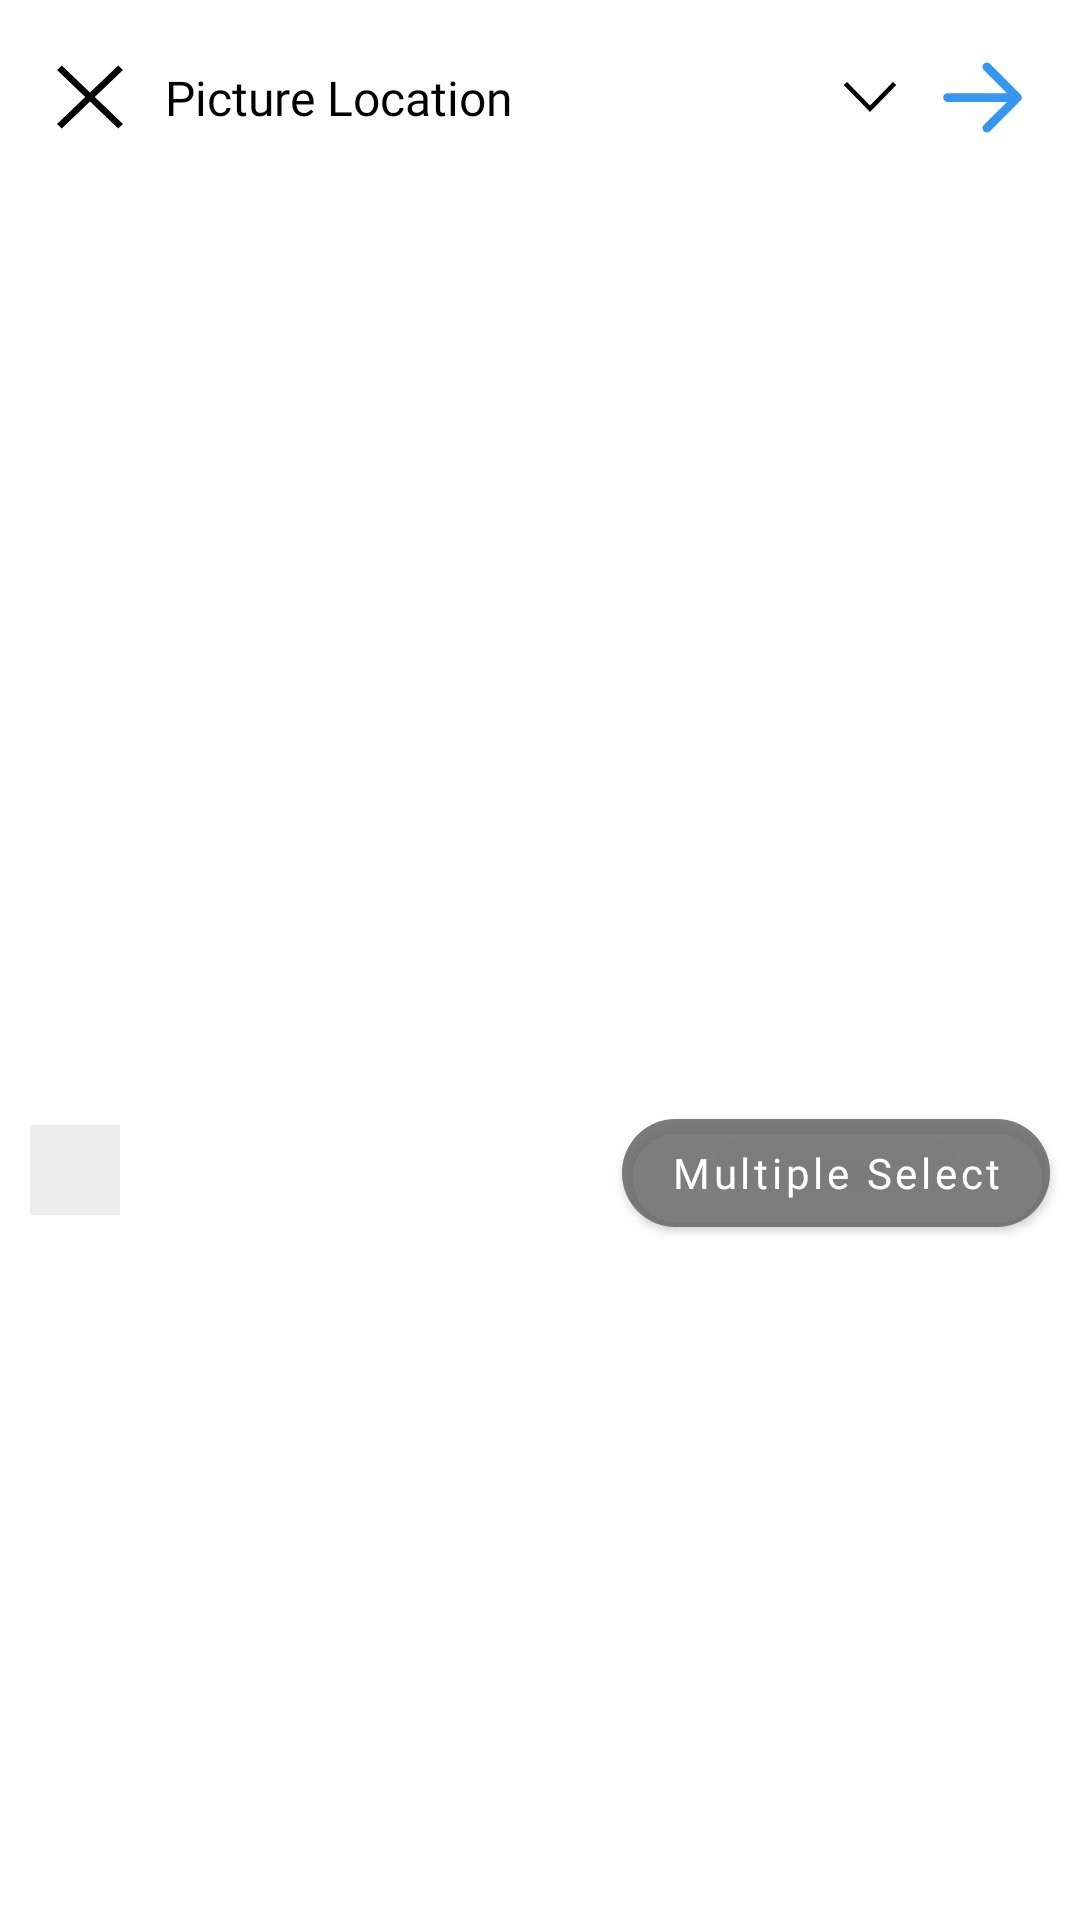

Screen size 1080 x 1920. Icon name, then its box in pixels as {"left": x1, "top": y1, "right": x2, "bottom": y2}:
close: {"left": 57, "top": 65, "right": 123, "bottom": 129}
down: {"left": 844, "top": 82, "right": 896, "bottom": 112}
next arrow: {"left": 943, "top": 62, "right": 1022, "bottom": 133}
